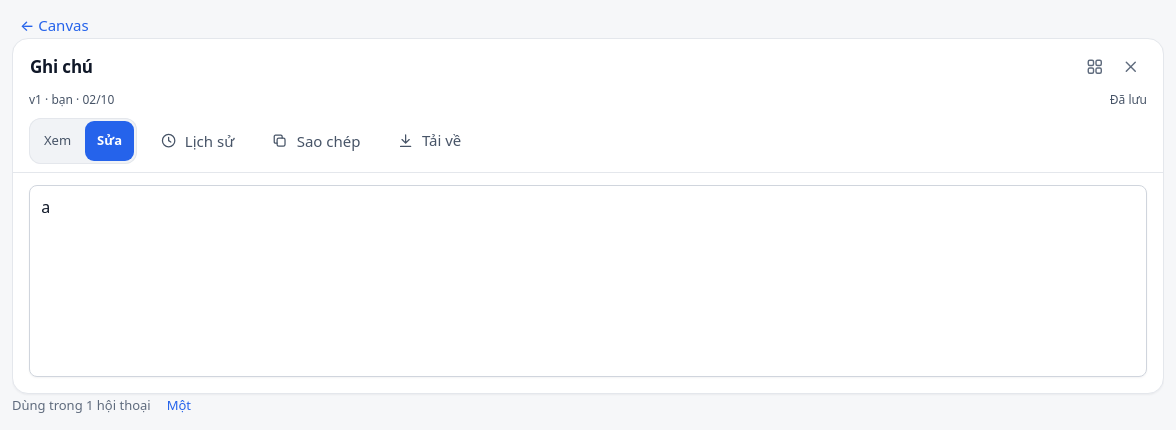
Test: a canvas on a page of its own › goes back to the library from the panel's own close and from its way to the list
This screenshot has width=1176, height=430.
Step 1. Click the button named "Đóng" → (1131, 67), box x1=1115 y1=51 x2=1147 y2=83
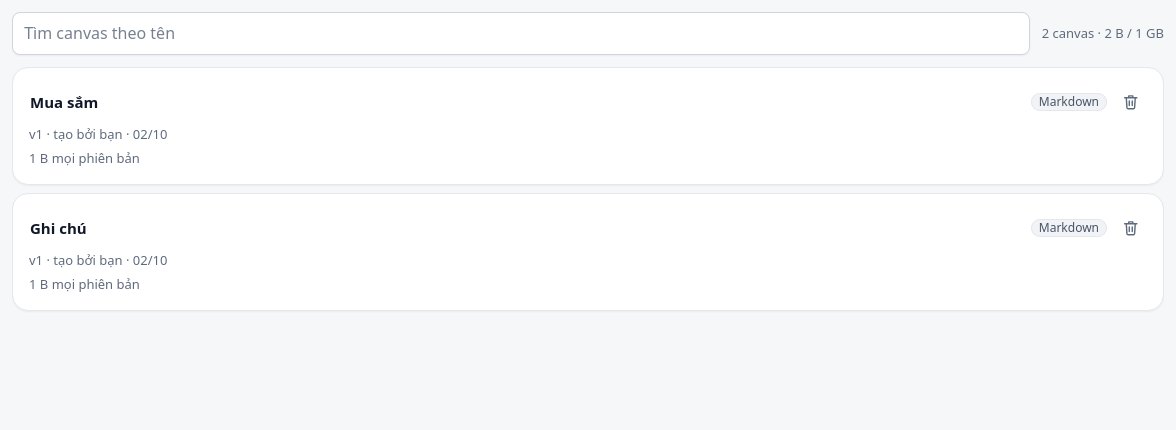
Step 2. Click the button "Ghi chú" → (58, 228), box x1=21 y1=210 x2=1023 y2=246
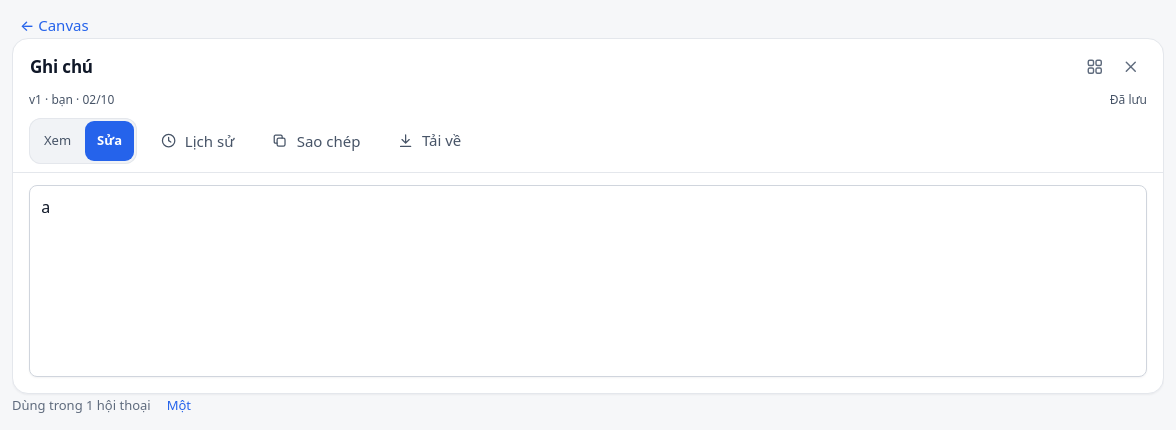
Result: the text box named "Nội dung canvas" holds "a" at x1=29 y1=185 x2=1147 y2=377
Step 3. Click the button named "Các canvas" → (1095, 67), box x1=1079 y1=51 x2=1111 y2=83
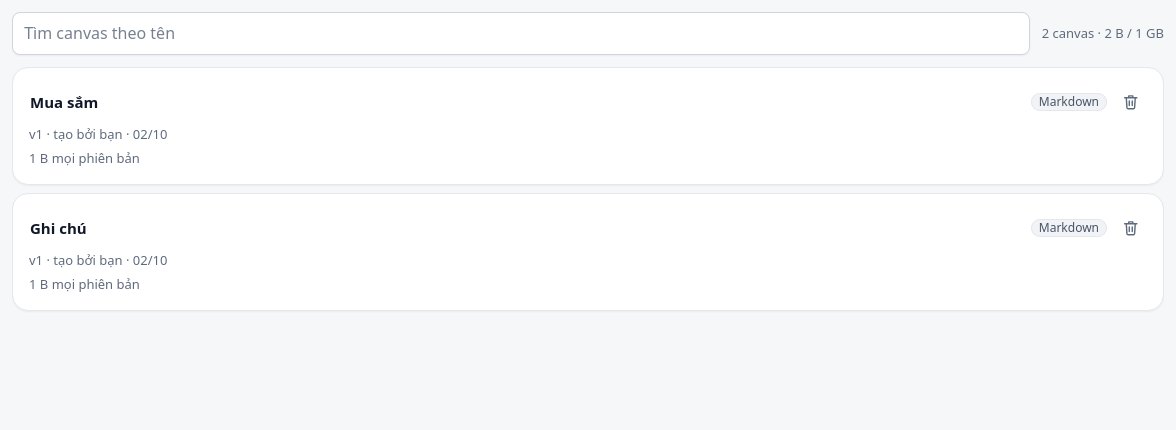
Result: the element with class "canvas-panel" is gone
